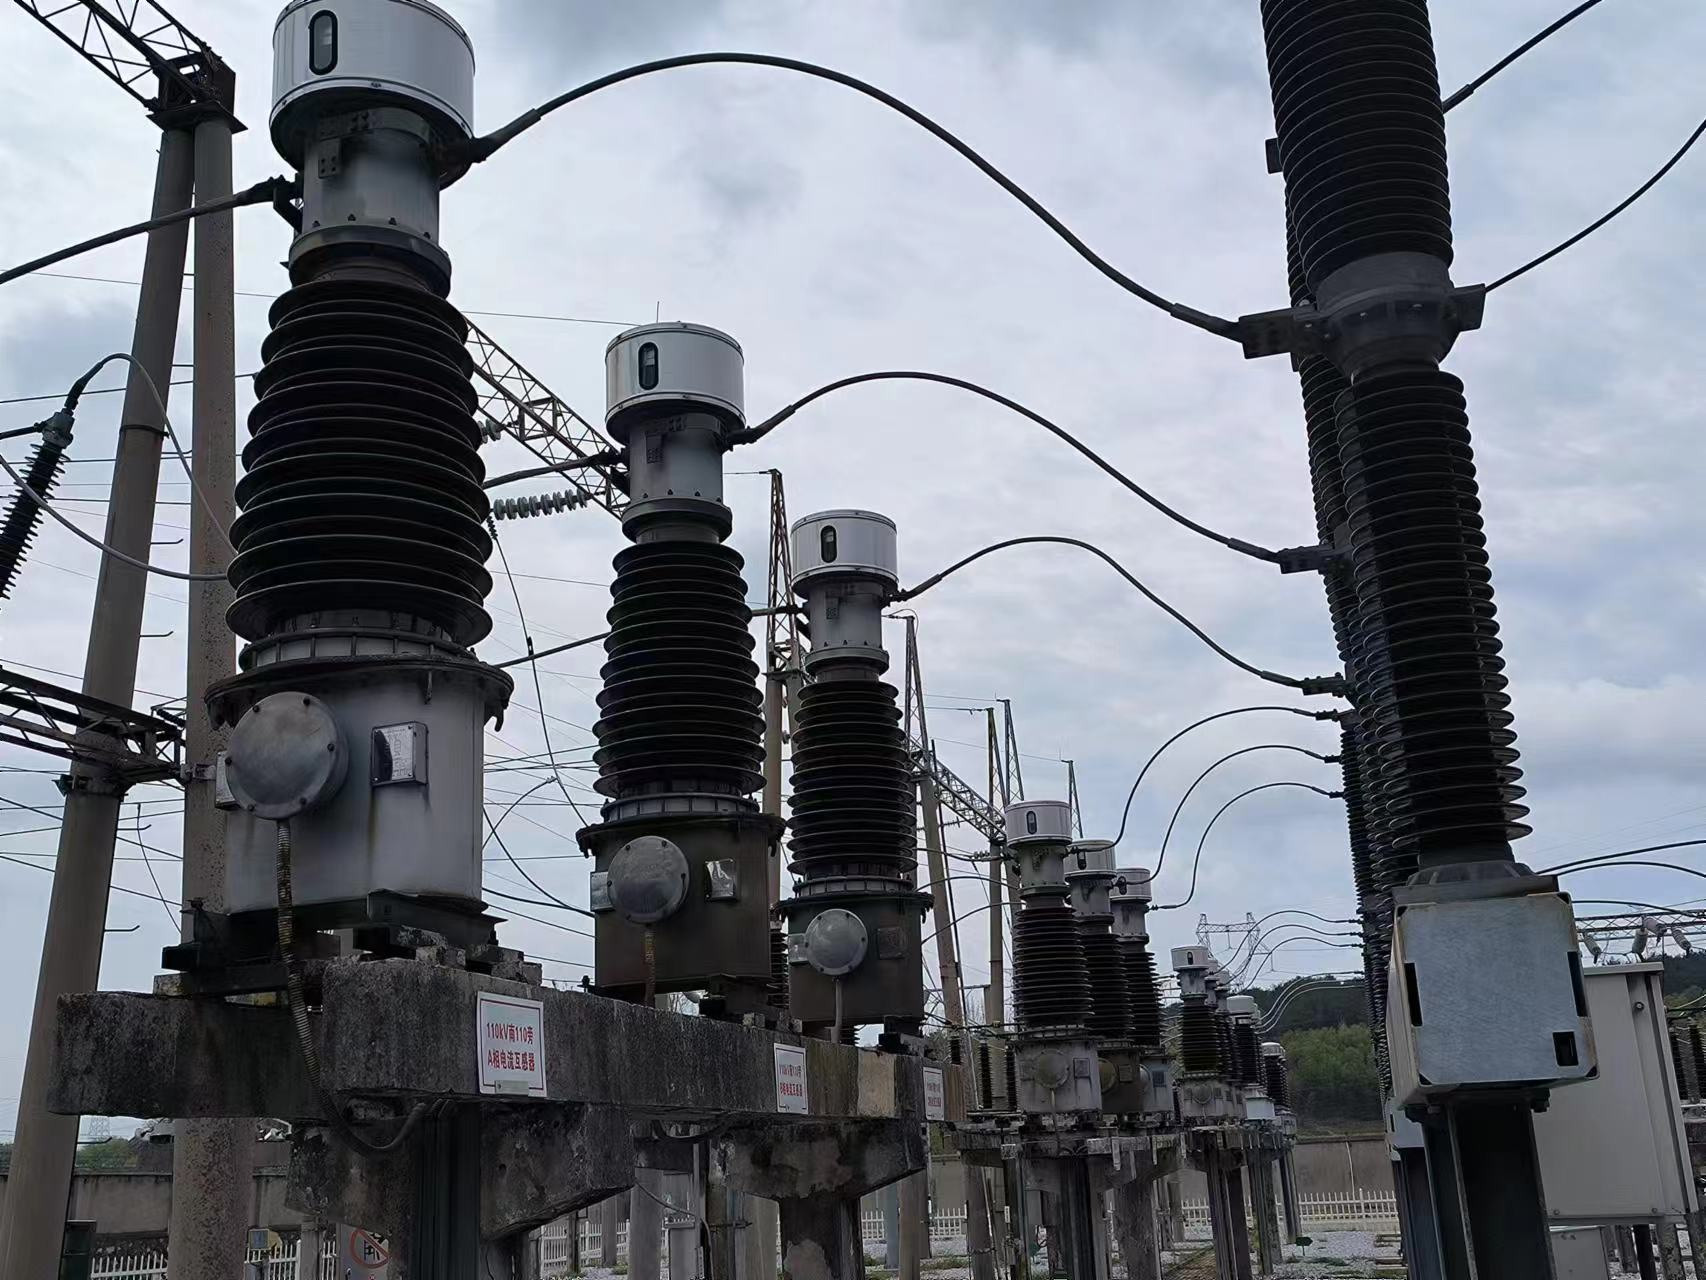Current transformer: (202, 3, 516, 908), (583, 311, 777, 990), (788, 506, 929, 1029), (1000, 797, 1096, 1123)
